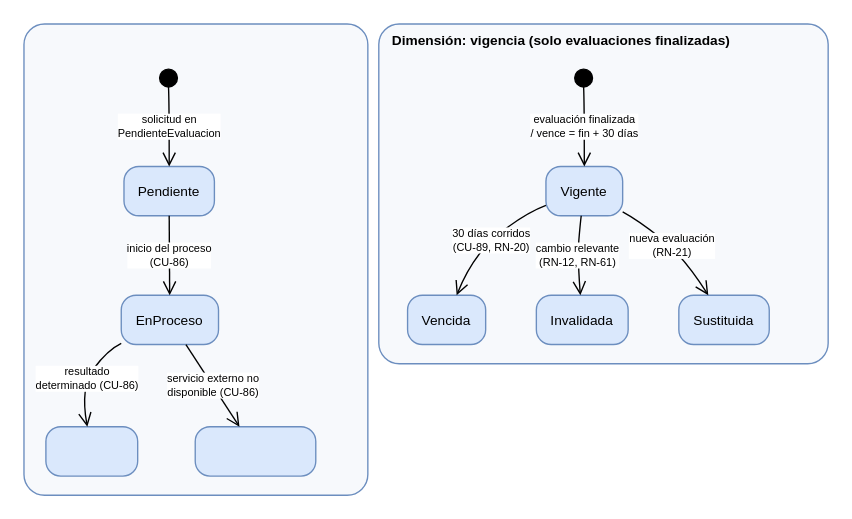
This 852x519 diagram has some shape labels left out. The box of each missing label's shape, as (x1, y1, x2, y2) in pixels:
Dimensión: procesamiento: (23, 23, 368, 495)
Finalizada: (45, 425, 138, 476)
NoCompletada: (194, 425, 316, 476)
